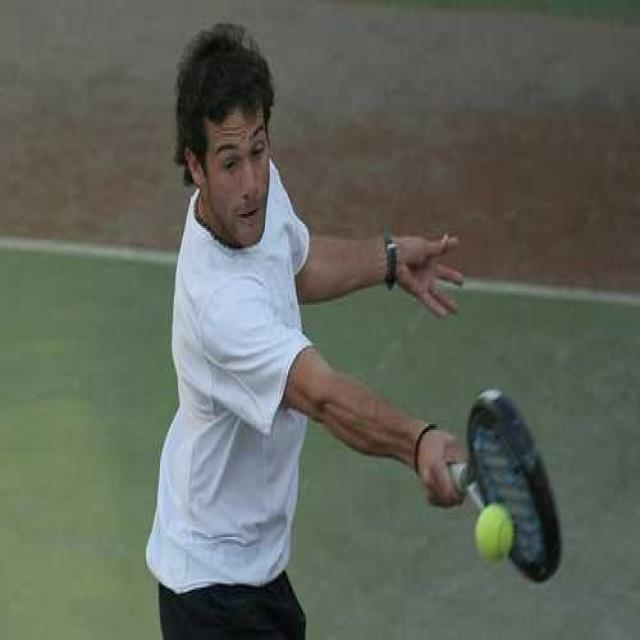Tennis_Ball: (478, 503, 512, 562)
